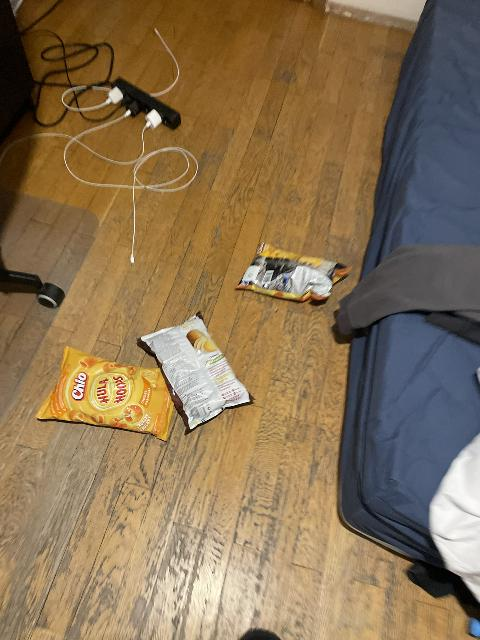Chio Cascaval 125g: (234, 242, 347, 301)
Chio Hula Hoops Cheese 70g: (37, 344, 176, 437)
Lays Beef Grilled Ribs 125g: (141, 312, 259, 429)
